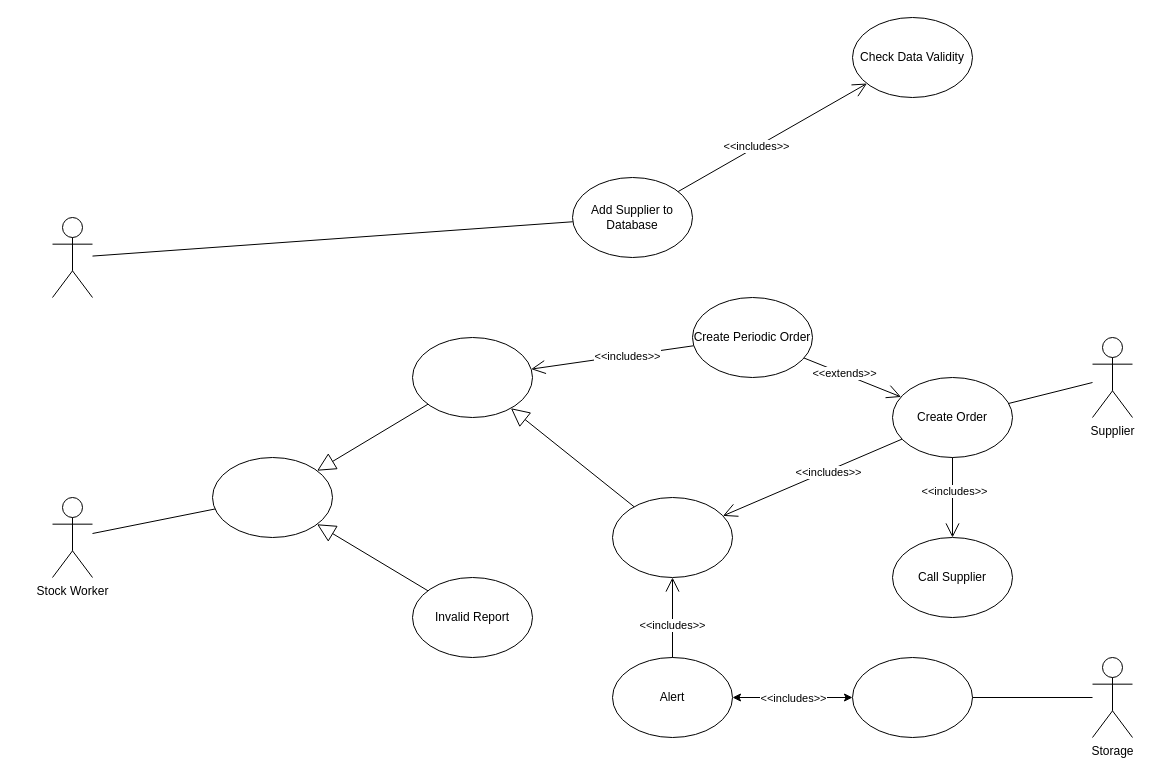
Image size: 1152x776. Some labels were removed from this diagram. Each missing label, with the centre of its shape:
Generates Report: point (272, 497)
Low Stock Report: point (672, 537)
Stock Report: point (472, 377)
Super Administration: point (72, 257)
Update Inventory: point (912, 697)
